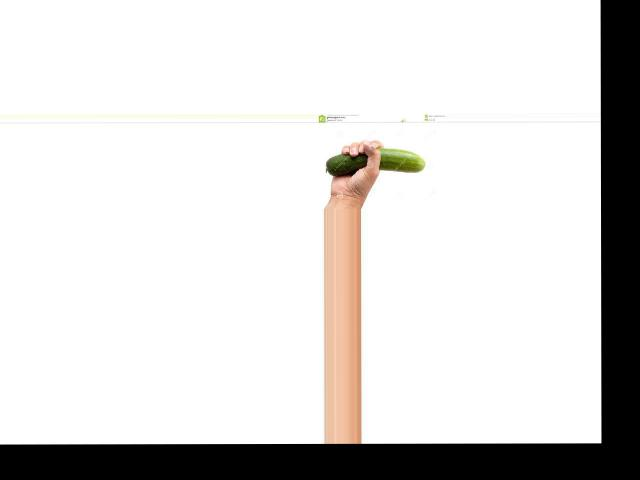cucumber: (326, 147, 425, 175)
